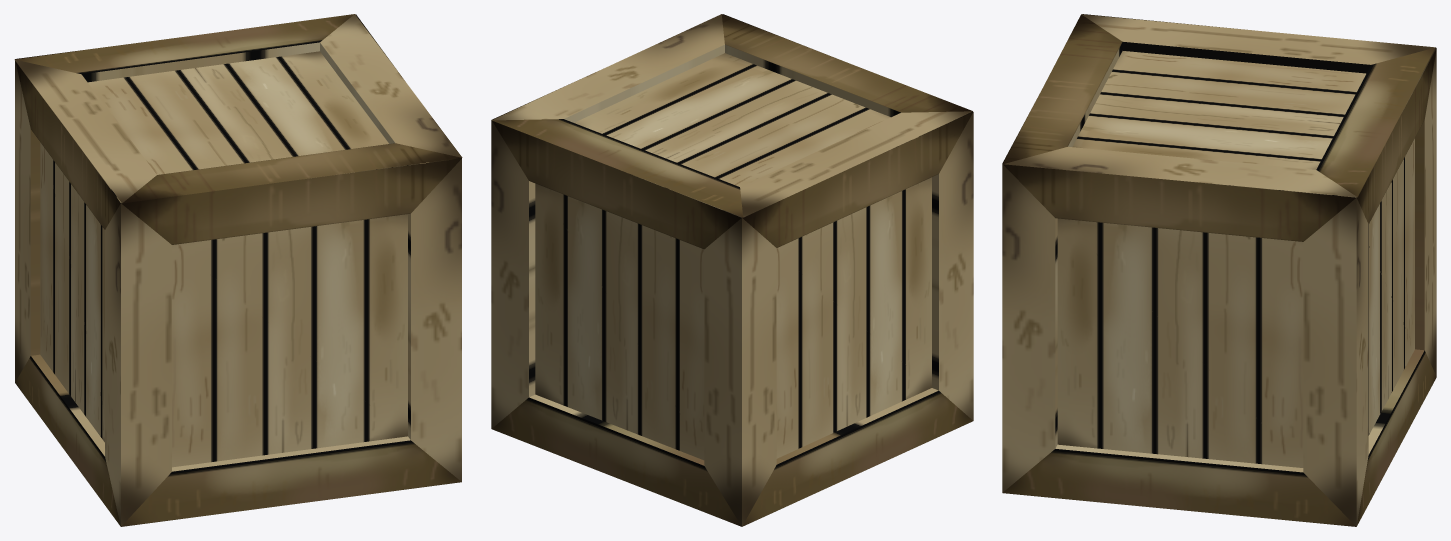
The model's file is 木箱子.fbx.
The picture shows the model from 3 angles, left to right: view 1: azimuth 30°, elevation 25°; view 2: azimuth 150°, elevation 25°; view 3: azimuth 270°, elevation 25°; orthographic projection. The views are drawn at different scales.
Parts seen in each view (by area): view 1: 立方體.015; view 2: 立方體.015; view 3: 立方體.015.
Boxes of the visible parts, box(x1,y1,x2,y2) form: 立方體.015: box(14, 14, 462, 526); 立方體.015: box(491, 14, 973, 526); 立方體.015: box(1002, 14, 1436, 526).
Size of the model in its own units: 9.84 by 8.23 by 9.84.
Materials: 1 (1 with a texture image).
